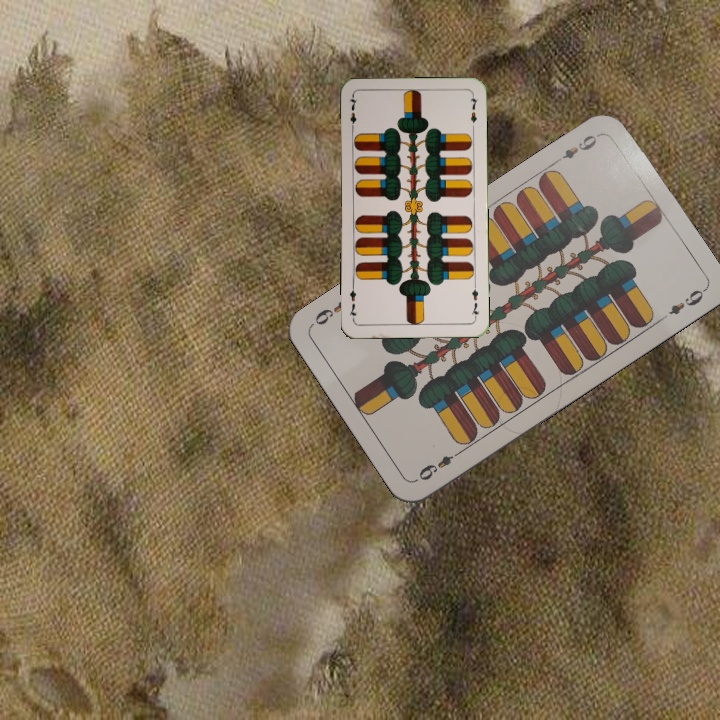E7: (467, 280, 482, 321), (345, 93, 359, 134)
E9: (550, 129, 603, 167), (414, 446, 465, 484)
